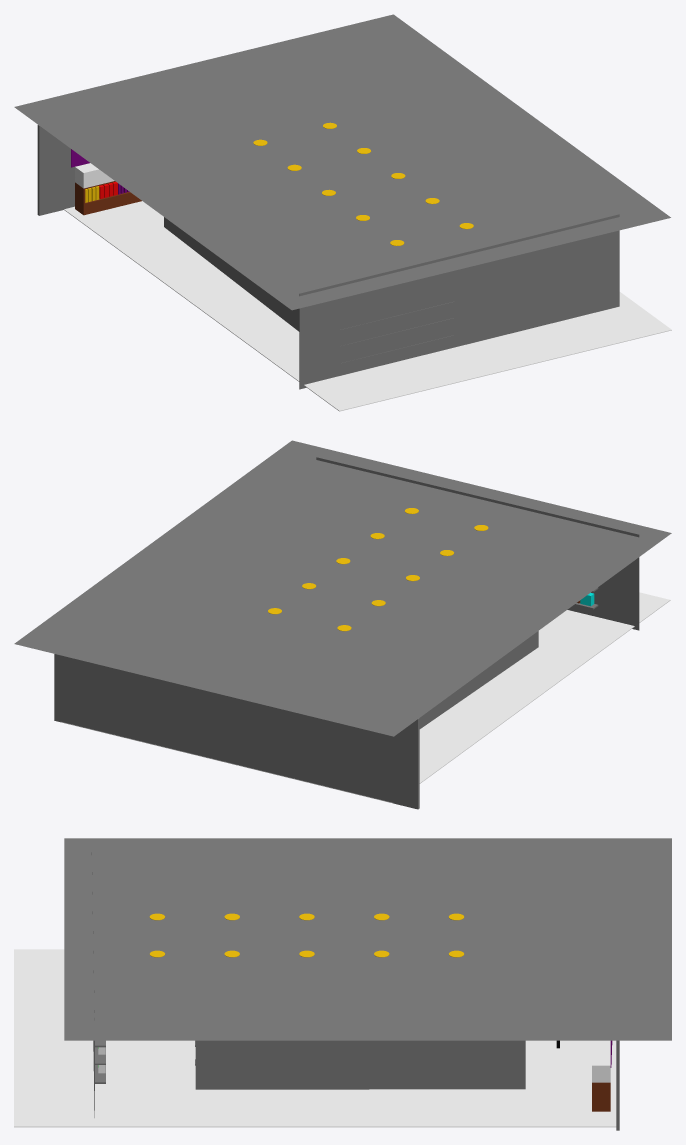
The model's file is FinalVersion1.fbx.
3 views of the same model, one above another, from view 1: azimuth 30°, elevation 25°; view 2: azimuth 150°, elevation 25°; view 3: azimuth 270°, elevation 25° (orthographic). The views are drawn at different scales.
Visible parts, largest first — view 1: Roof, Cube__1140_, Floor, Cube__1141_, Cube__1061_, Cube__1150_; view 2: Roof, Cube__1141_, Floor, Cube__1140_, Cube__1061_; view 3: Roof, Floor, Cube__982_, Cube__1222_.
Part boxes in pixels (<box>): Roof: <box>14,14,670,310</box>; Cube__1140_: <box>299,214,619,389</box>; Floor: <box>64,201,671,411</box>; Cube__1141_: <box>37,125,81,215</box>; Cube__1061_: <box>164,217,299,331</box>; Cube__1150_: <box>75,192,141,215</box>; Roof: <box>14,440,671,736</box>; Cube__1141_: <box>54,654,419,809</box>; Floor: <box>61,592,670,803</box>; Cube__1140_: <box>316,457,639,630</box>; Cube__1061_: <box>419,631,538,728</box>; Roof: <box>64,838,671,1040</box>; Floor: <box>14,949,616,1127</box>; Cube__982_: <box>195,1040,525,1089</box>; Cube__1222_: <box>592,1040,610,1066</box>.
Bounding box in the file's own units: 76958 × 18555 × 105600.
